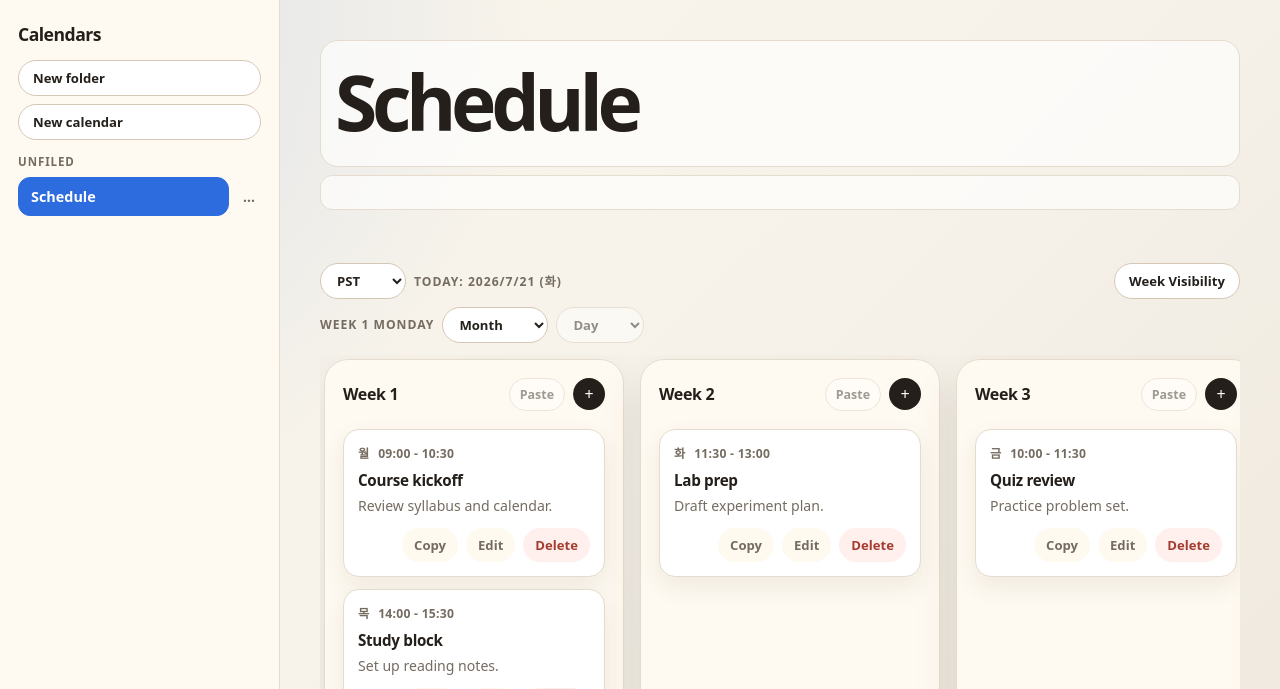
Test: App feature flows › creates and selects an unfiled blank calendar immediately
Click the button "New calendar": (140, 122) [18,104,261,140]
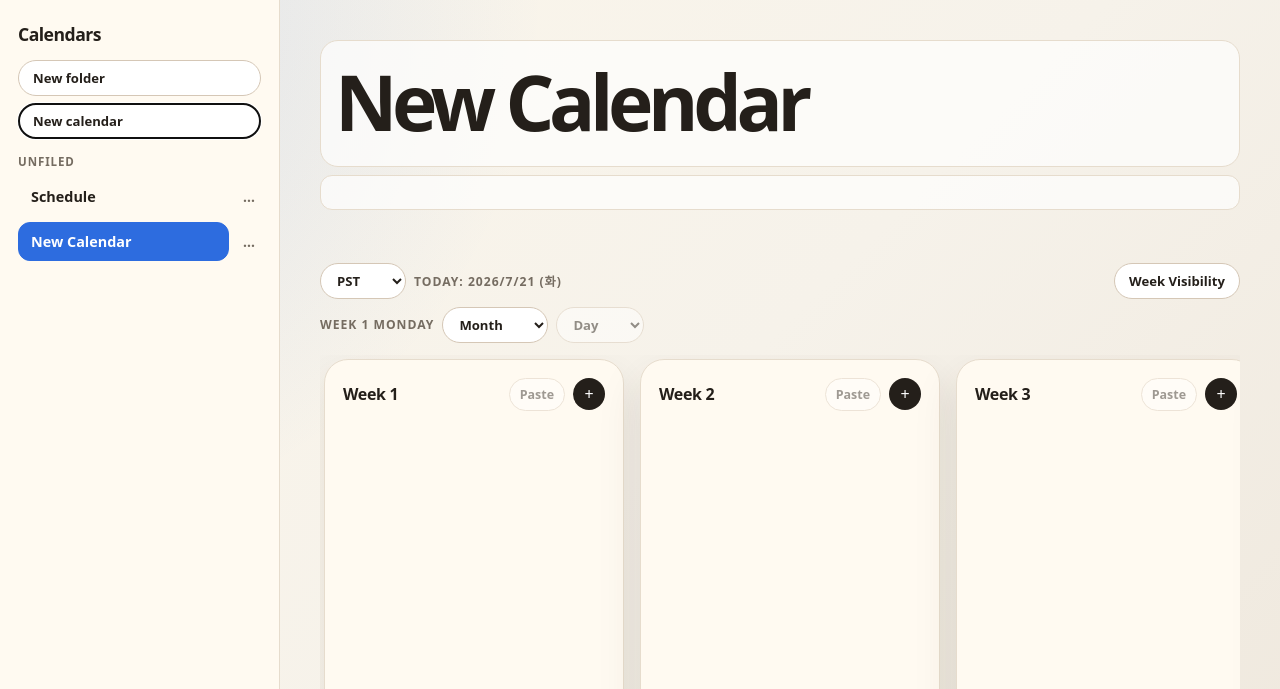
Expected: the button "New Calendar" is shown, [18,222,229,261]
Expected: the field named "Title" holds "New Calendar", [320,40,1240,167]
